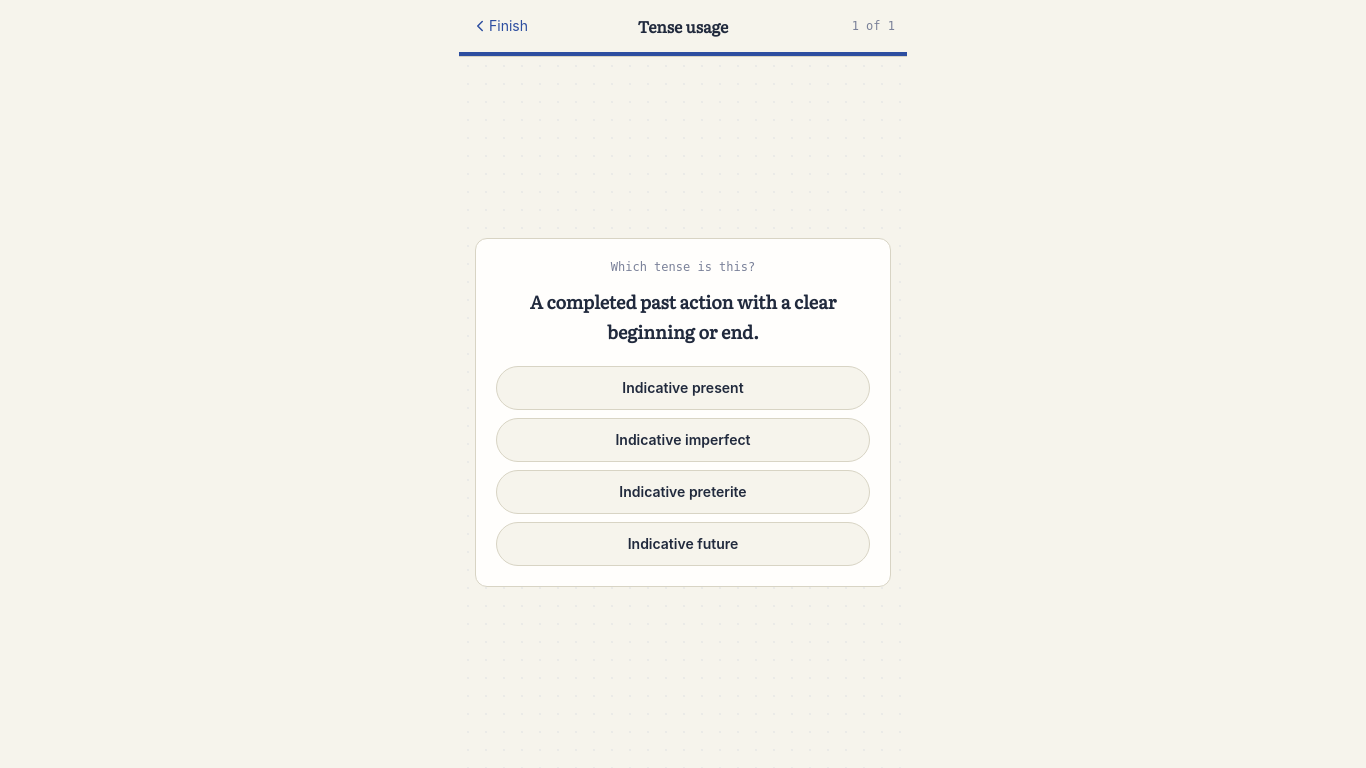
Scenario: recognition multiple-choice sessions › marks objectively and teaches the contrast without an immediate retry
Click the button "Indicative imperfect" at (683, 440), box x1=496 y1=418 x2=870 y2=462
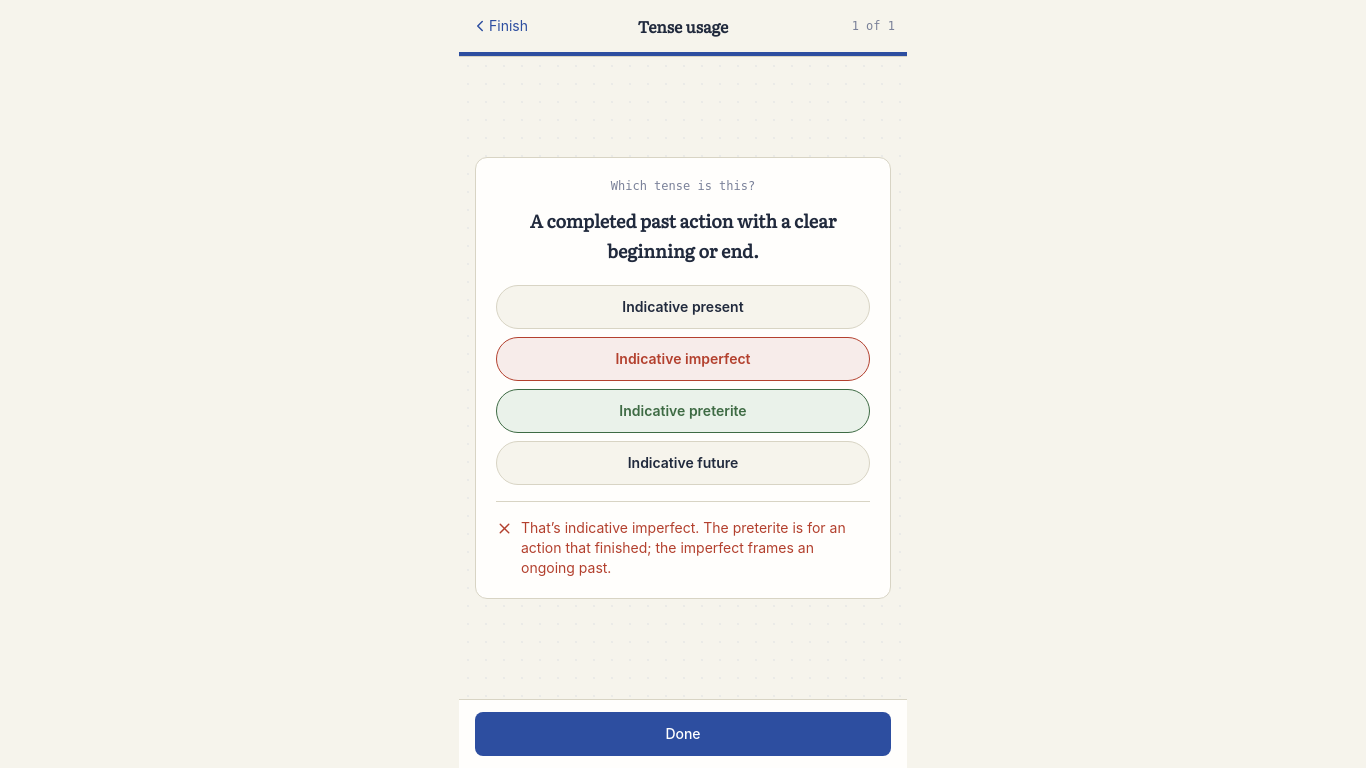
Expected: the text "action that finished" is shown, x1=521 y1=519 x2=846 y2=576
Expected: the button "Done" is shown, x1=475 y1=712 x2=891 y2=756
